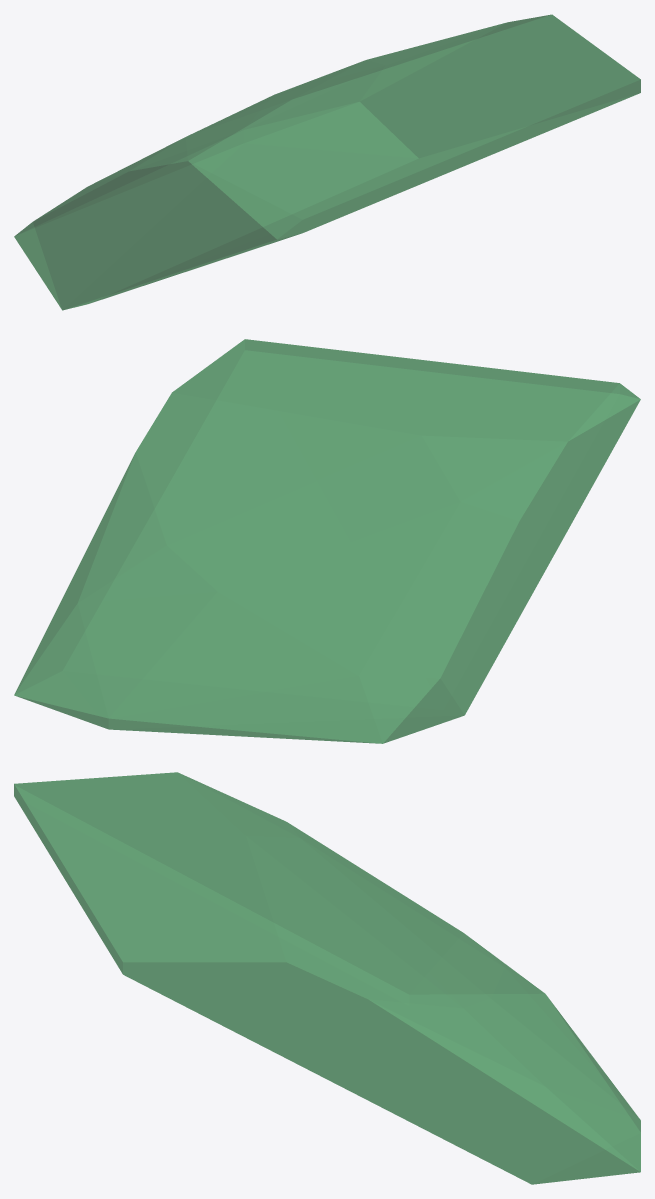
3 views of the same model, one above another, from view 1: azimuth 30°, elevation 25°; view 2: azimuth 150°, elevation 25°; view 3: azimuth 270°, elevation 25° (orthographic). The views are drawn at different scales.
Parts seen in each view (by area): view 1: Shape_IndexedFaceSet.008_Shape_IndexedFaceSet.437; view 2: Shape_IndexedFaceSet.008_Shape_IndexedFaceSet.437; view 3: Shape_IndexedFaceSet.008_Shape_IndexedFaceSet.437.
Part boxes in pixels (x1=…): Shape_IndexedFaceSet.008_Shape_IndexedFaceSet.437: x1=14, y1=14, x2=640, y2=310; Shape_IndexedFaceSet.008_Shape_IndexedFaceSet.437: x1=14, y1=339, x2=640, y2=743; Shape_IndexedFaceSet.008_Shape_IndexedFaceSet.437: x1=14, y1=772, x2=640, y2=1184.
Bounding box in the file's own units: 0.1399 × 0.0763 × 0.195.
